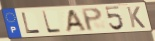5: (104, 5, 125, 32)
A: (64, 8, 87, 33)
K: (125, 6, 147, 29)
L: (41, 10, 63, 34), (20, 12, 41, 35)
P: (80, 7, 104, 32)
